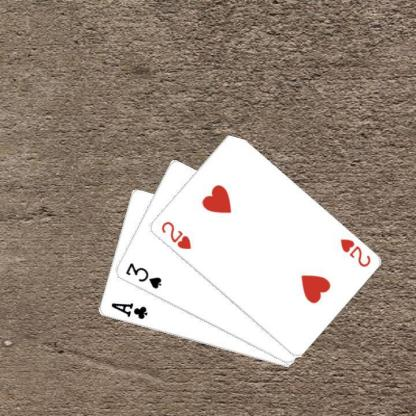2H: (158, 218, 192, 251), (337, 235, 371, 268)
3S: (122, 260, 162, 290)
AC: (108, 300, 149, 320)
